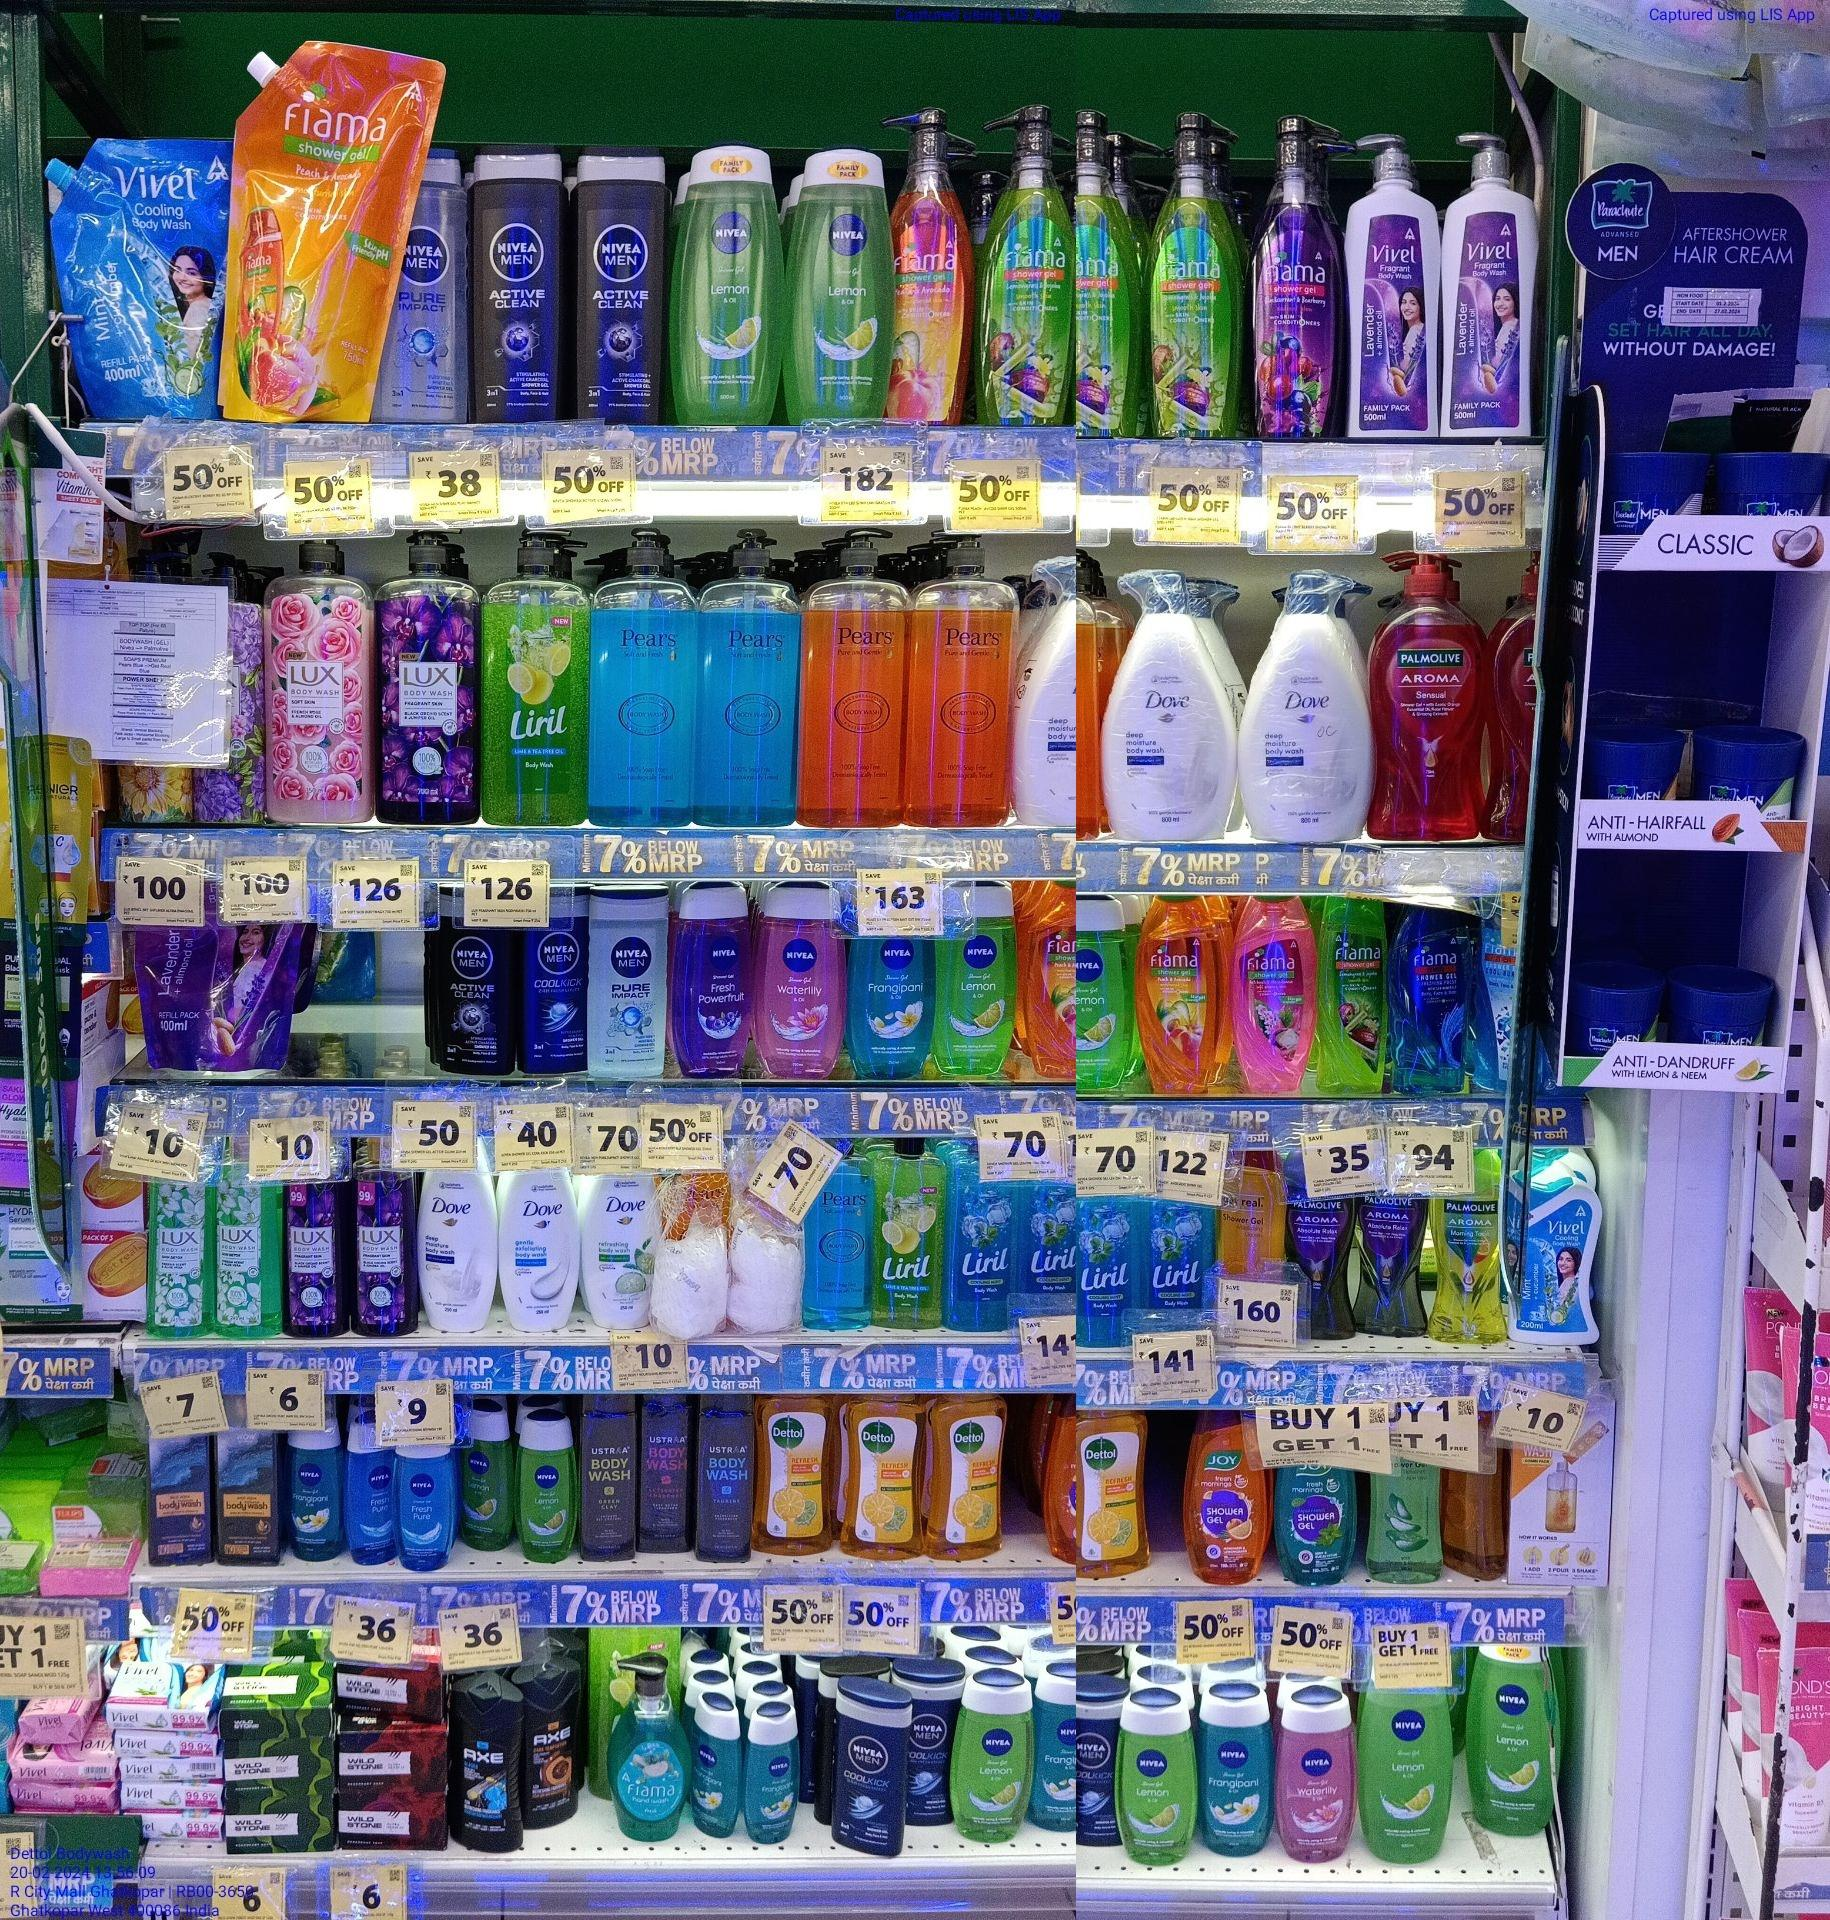Dettol_Bodywash_Refresh: (838, 1385, 922, 1560), (929, 1390, 1004, 1560), (1076, 1411, 1151, 1577), (759, 1394, 831, 1557)
Dove_Deep_Moisture_Body_Wash_250ML: (422, 1162, 495, 1332)
Dove_Gentle_Exfoliating_Body_Wash_250ML: (502, 1171, 579, 1330)
Dove_Refreshing_Body_Wash_250ML: (584, 1171, 651, 1330)
Fiama_Shower_Gel_Lemongrass_and_Jojoba_250ML: (1323, 898, 1386, 1094)
Fiama_Shower_Gel_Patchouli_and_Macadamia_250ML: (1227, 891, 1316, 1092)
Fiama_Shower_Gel_Peach_and_Avocado_250ML: (1136, 891, 1218, 1095)
Joy_Shower_Gel_Mandarin_and_Lemongrass_250ML: (1187, 1404, 1258, 1584)
Joy_Shower_Gel_Mint_and_Eucalyptus_250ML: (1273, 1464, 1357, 1586)
Liril_Cooling_Mint_Body_Wash_250ML: (949, 1183, 1018, 1330), (1079, 1193, 1141, 1353), (1145, 1200, 1211, 1327), (1023, 1183, 1074, 1317)
Liril_Lime_and_Tea_Tree_Oil_Body_Wash_250ML: (876, 1135, 944, 1330)
Lux_Black_Orchid_Scent_and_Juniper_Oil_Body_Wash_245ML: (351, 1178, 418, 1337), (286, 1186, 346, 1337)
Lux_Body_Wash_Skin_Detox_Freesia_Scent_and_Alove_Vera_245ML: (147, 1181, 216, 1335), (219, 1183, 283, 1337)
Nivea_Shower_Gel_Frangipani_and_Oil_250ML: (850, 927, 936, 1080), (1203, 1695, 1271, 1851), (687, 1697, 742, 1838), (747, 1699, 798, 1845), (286, 1430, 343, 1560)
Nivea_Shower_Gel_Fresh_Powerfruit_250ML: (672, 873, 752, 1077)
Nivea_Shower_Gel_Lemon_and_Oil_250ML: (667, 137, 785, 425), (788, 153, 894, 418), (1468, 1642, 1558, 1834), (1110, 1695, 1198, 1869), (1362, 1692, 1448, 1865), (953, 1663, 1030, 1838), (1074, 893, 1131, 1094), (939, 933, 1016, 1078), (511, 1411, 577, 1560), (459, 1409, 509, 1551)
Nivea_Shower_Gel_Waterlily_and_Oil_250ML: (756, 886, 845, 1080), (1282, 1694, 1354, 1862)
Pears_Pure_Glycerin_and_Mint_Extracts_Body_Wash_250ML: (804, 1169, 870, 1332)
